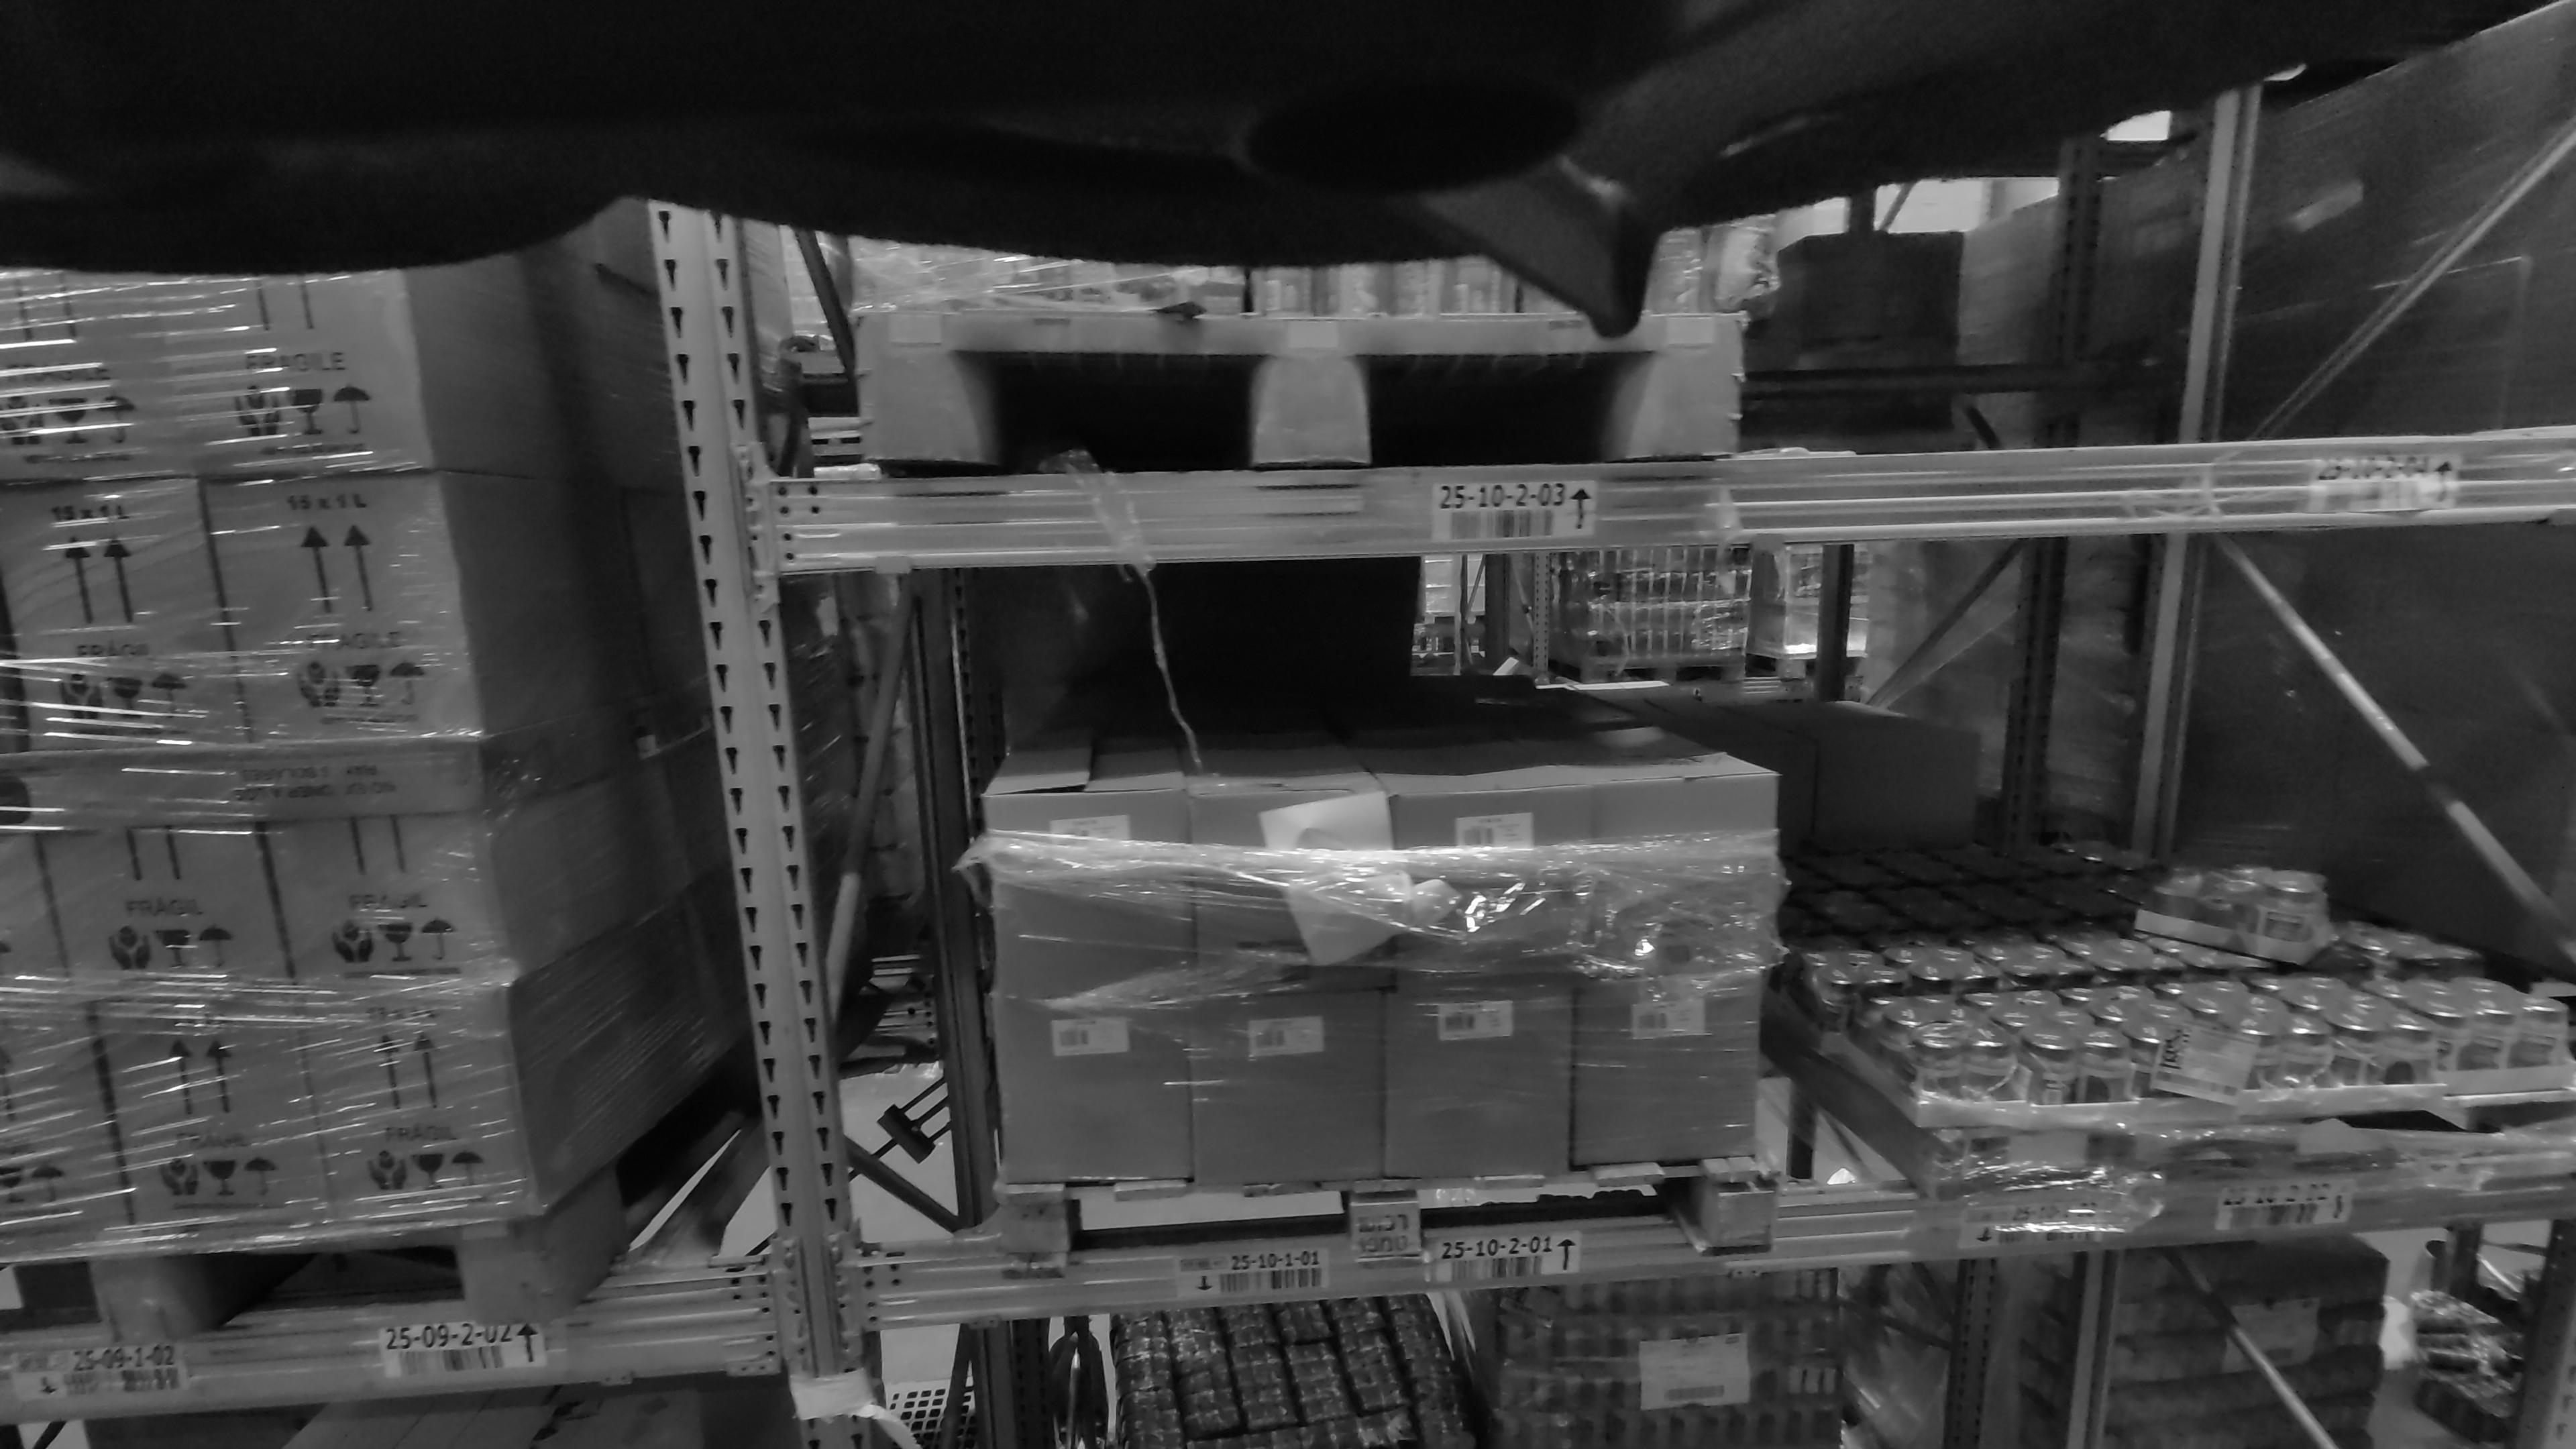empty-shelf: (1782, 0, 2576, 458)
